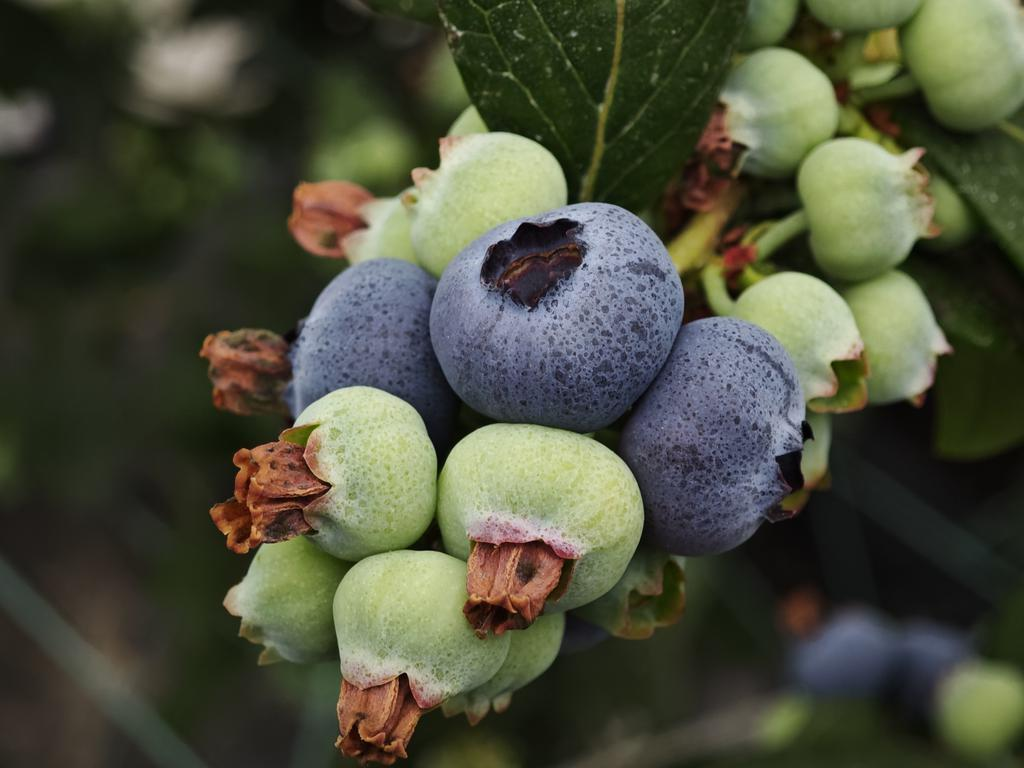RipeBlueBerry: (425, 199, 688, 427), (632, 313, 818, 559)
UnripeBlueBerry: (437, 419, 645, 633)
